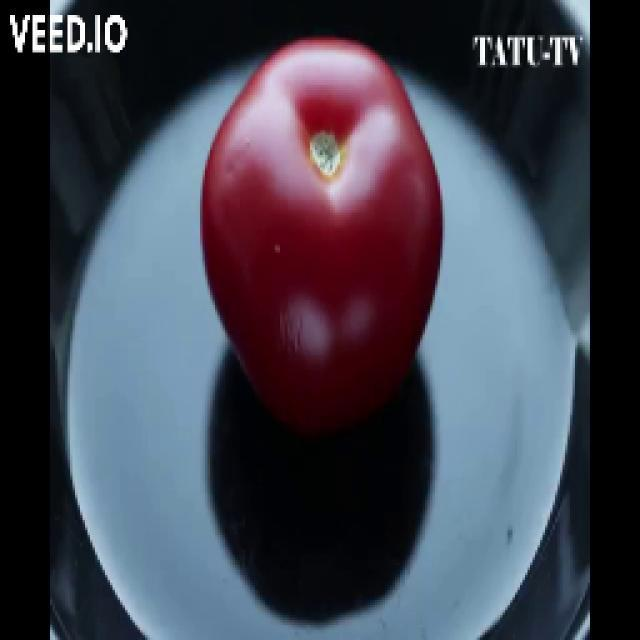tomato: (199, 38, 444, 444)
